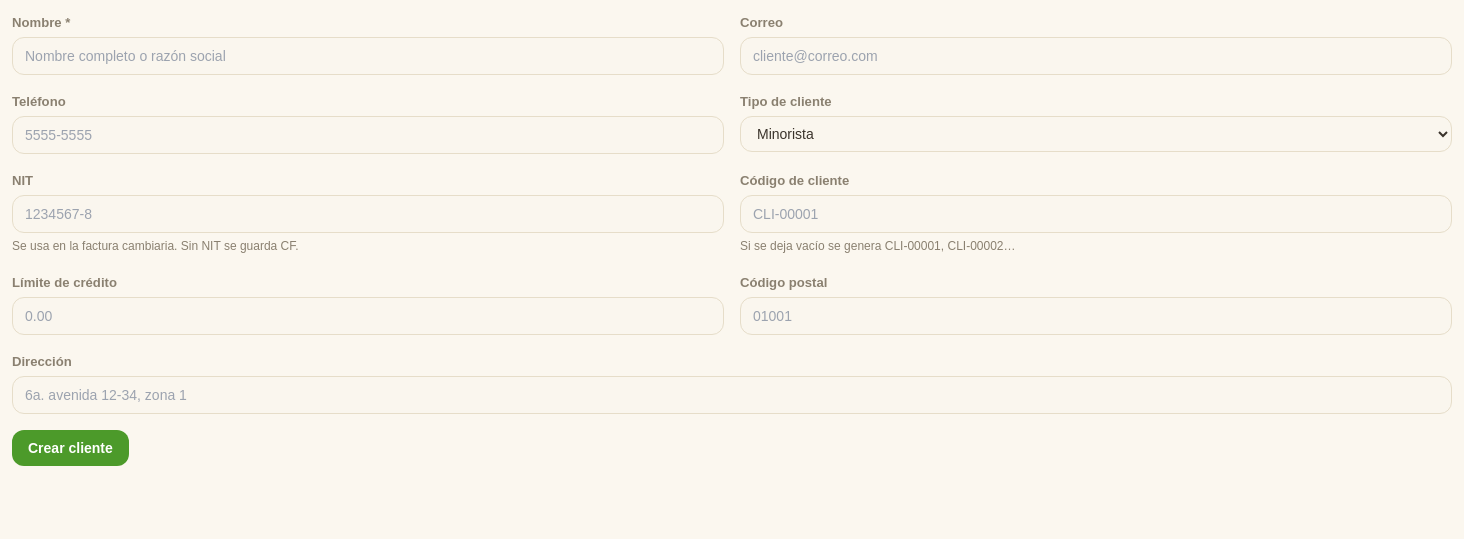
Test: FormularioCliente › mantiene el formulario abierto y muestra el error del servidor
Type "Ana López" into the field labelled "Nombre *" at (368, 56), box x1=12 y1=37 x2=724 y2=75
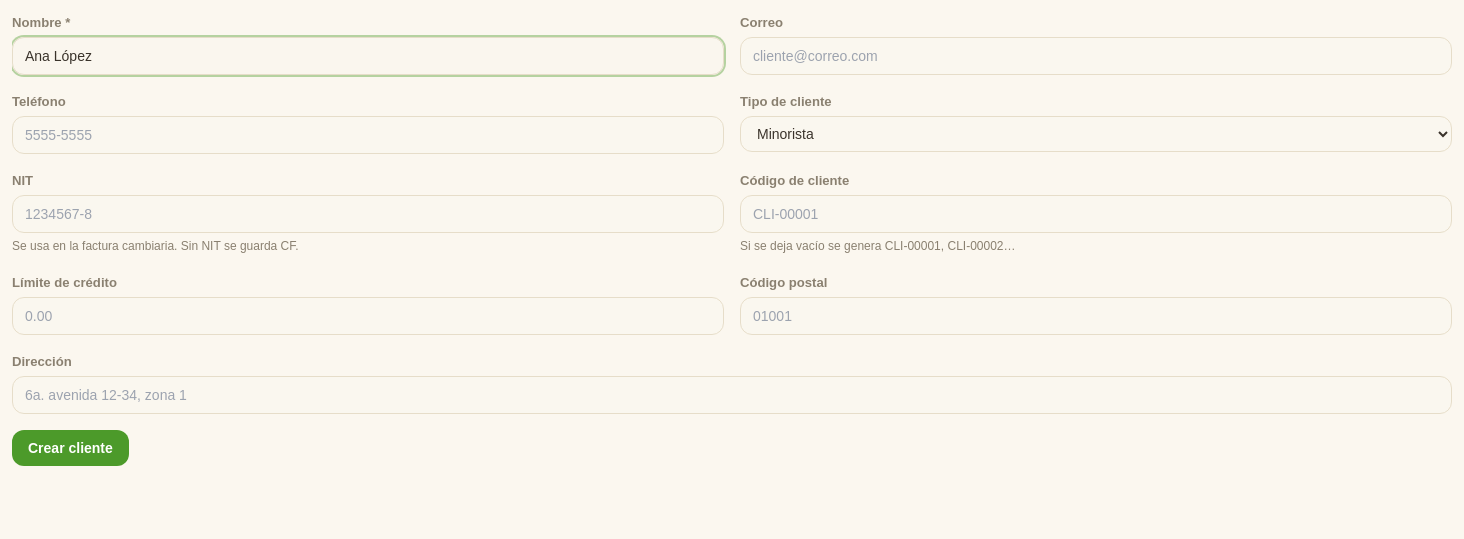
Click the button "Crear cliente" at (70, 448), box x1=12 y1=430 x2=129 y2=466
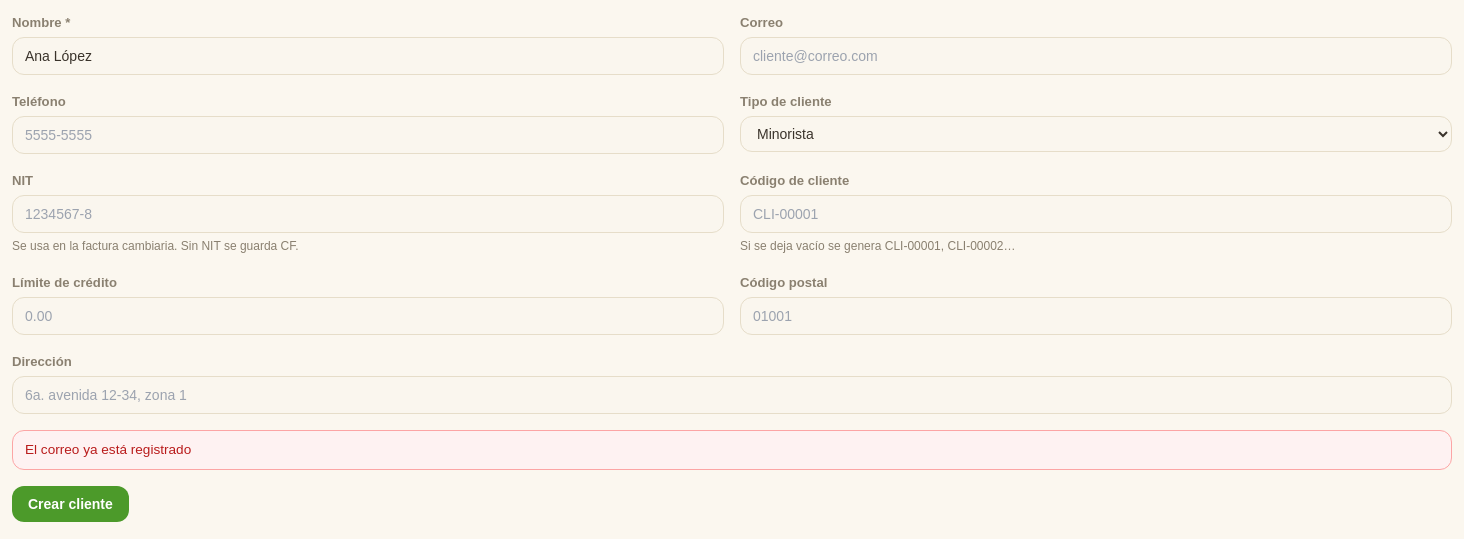
Expected: the text "El correo ya está registrado" is shown, x1=12 y1=430 x2=1452 y2=470
